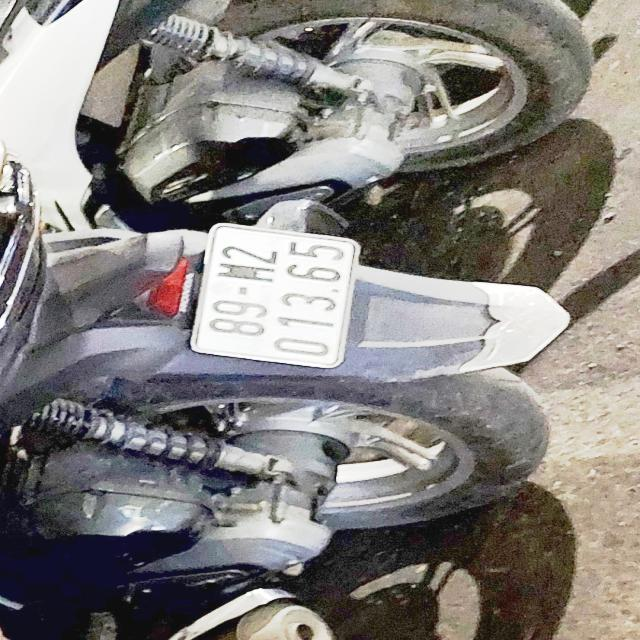license_plate: (188, 219, 366, 371)
